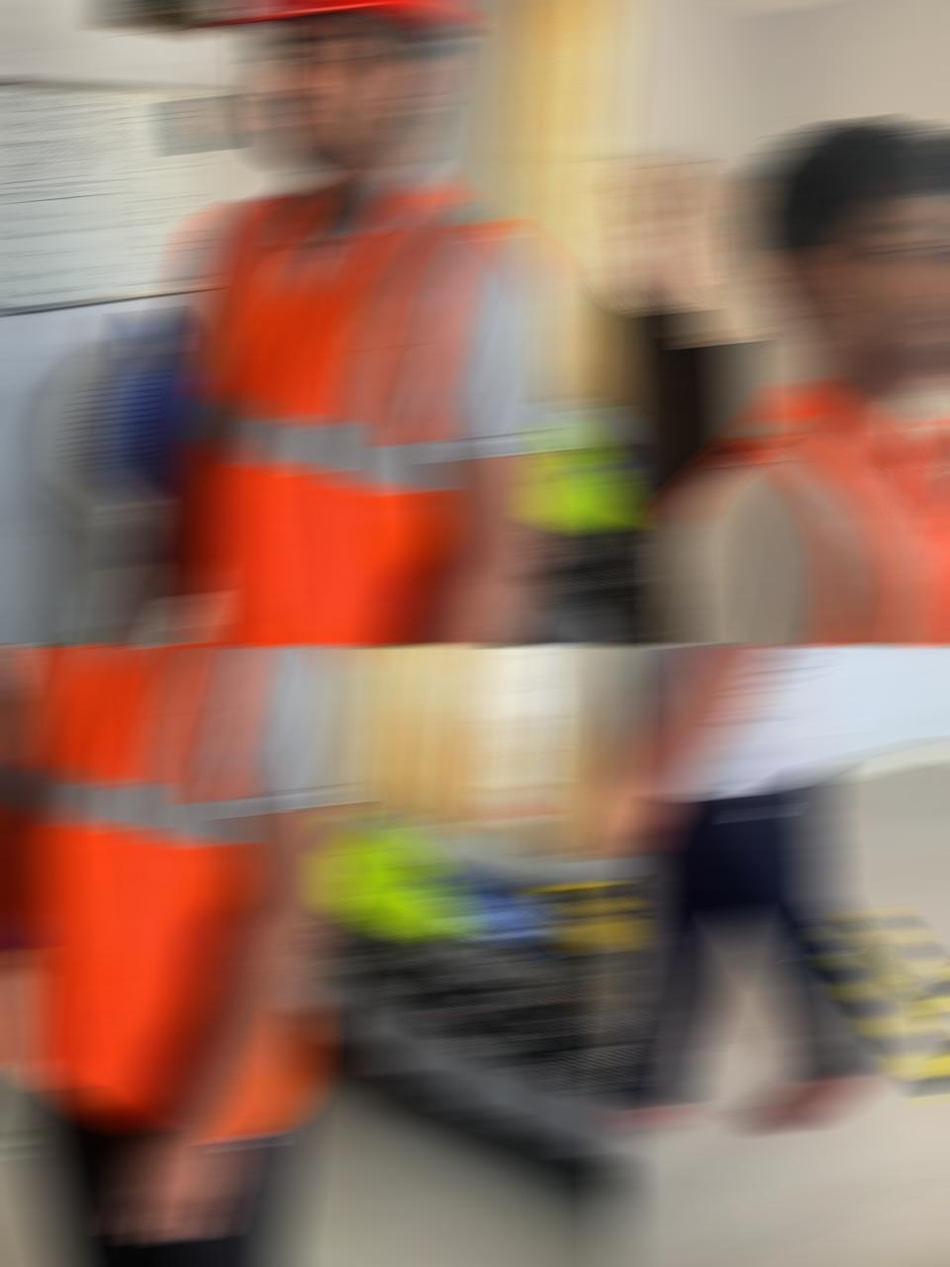BorderLine: (824, 905, 950, 1213)
Helmet: (214, 1, 467, 38)
No_Helmet: (733, 116, 950, 341)
Person: (90, 1, 568, 644), (0, 646, 360, 1266), (659, 116, 950, 644), (607, 646, 879, 1134)
Vest: (185, 164, 560, 644), (2, 646, 362, 1144), (663, 377, 950, 644)
